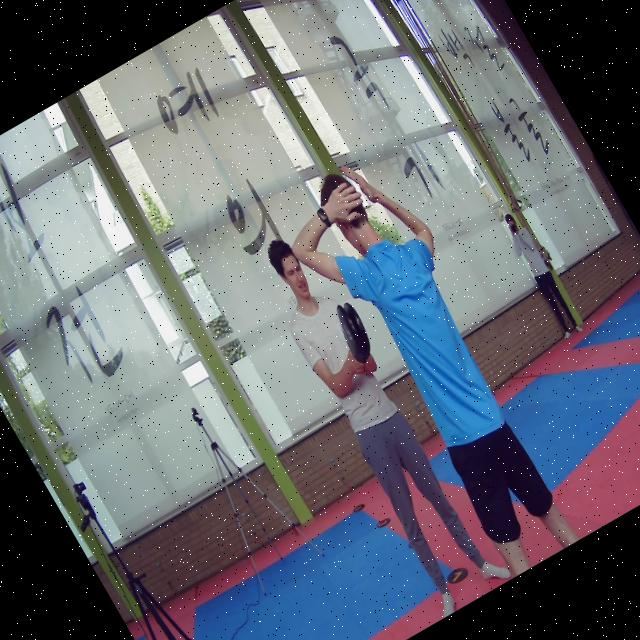paddle: (336, 303, 370, 362)
